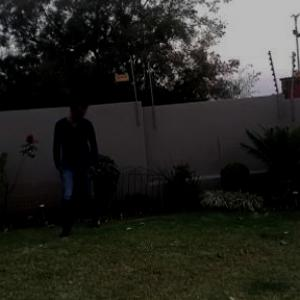follow: (48, 92, 96, 242)
